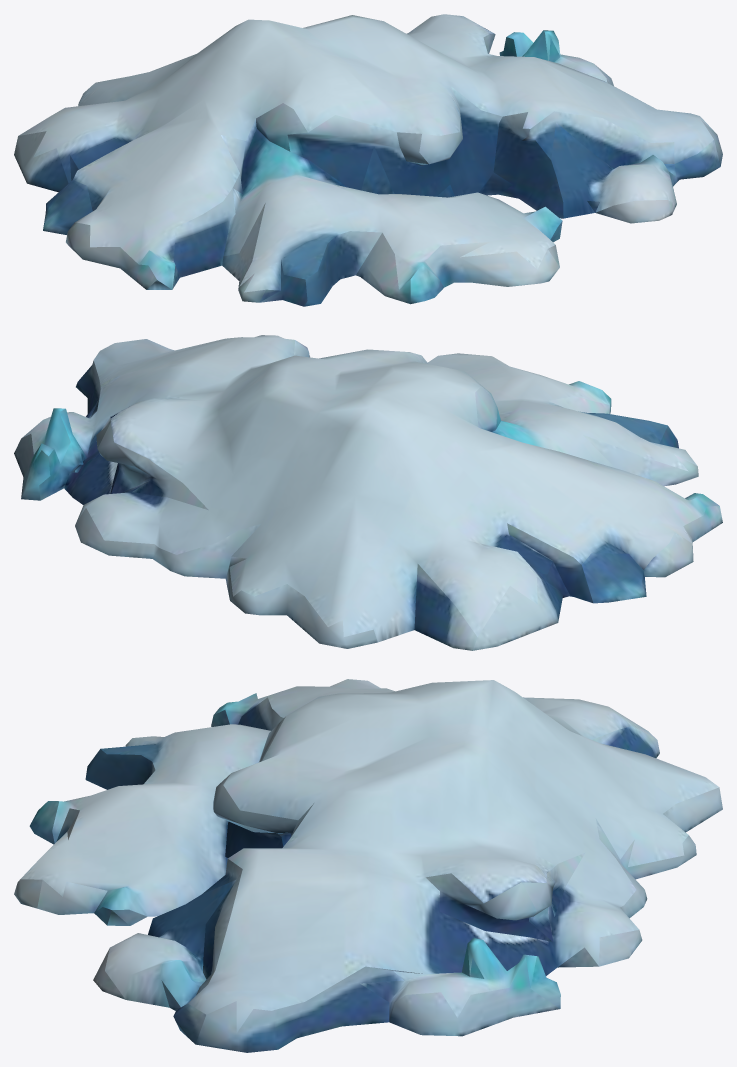
Rendered from d_givre_pied.glb.
3 renders of one model, top to bottom at view 1: azimuth 30°, elevation 25°; view 2: azimuth 150°, elevation 25°; view 3: azimuth 270°, elevation 25°, orthographic. The views are drawn at different scales.
Parts seen in each view (by area): view 1: geometry_0; view 2: geometry_0; view 3: geometry_0.
Part boxes in pixels (x1,y1,x2,y2): geometry_0: (14, 14, 722, 306); geometry_0: (14, 335, 722, 650); geometry_0: (14, 679, 722, 1052).
Bounding box in the file's own units: 1 × 0.2245 × 0.8693.
Materials: 1 (1 with a texture image).
